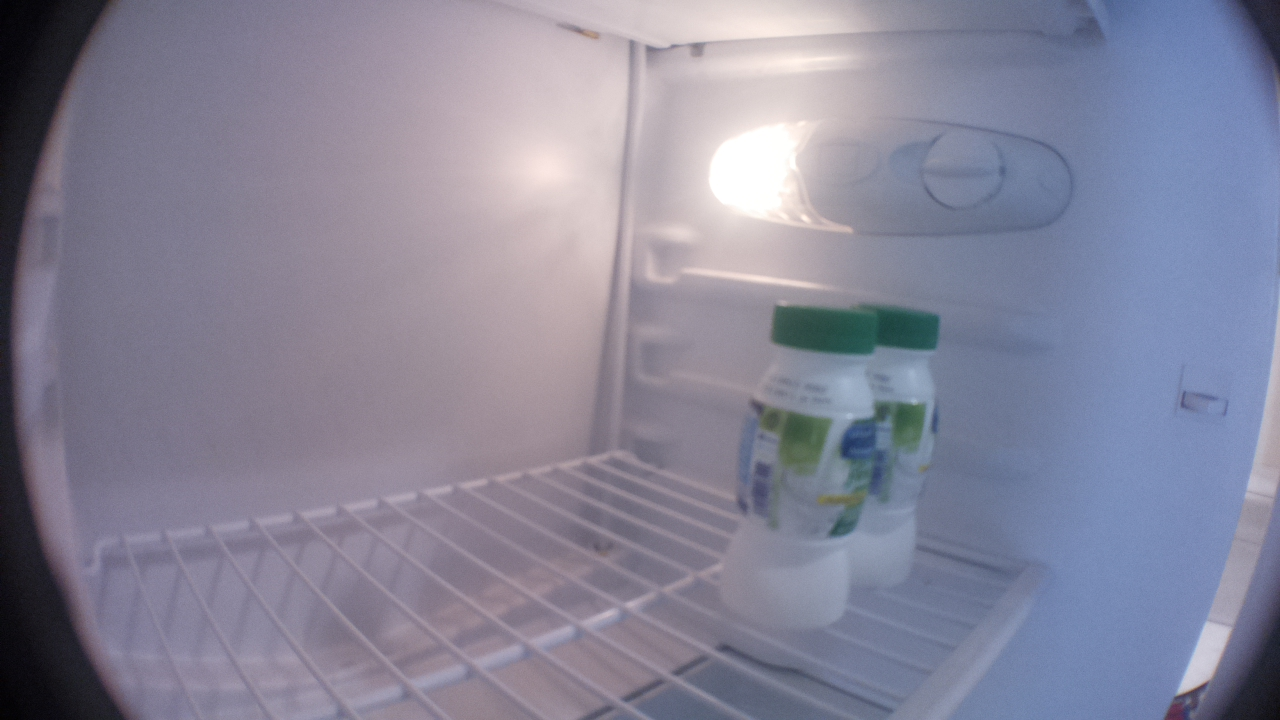laban: (720, 298, 874, 635), (861, 299, 938, 587)
